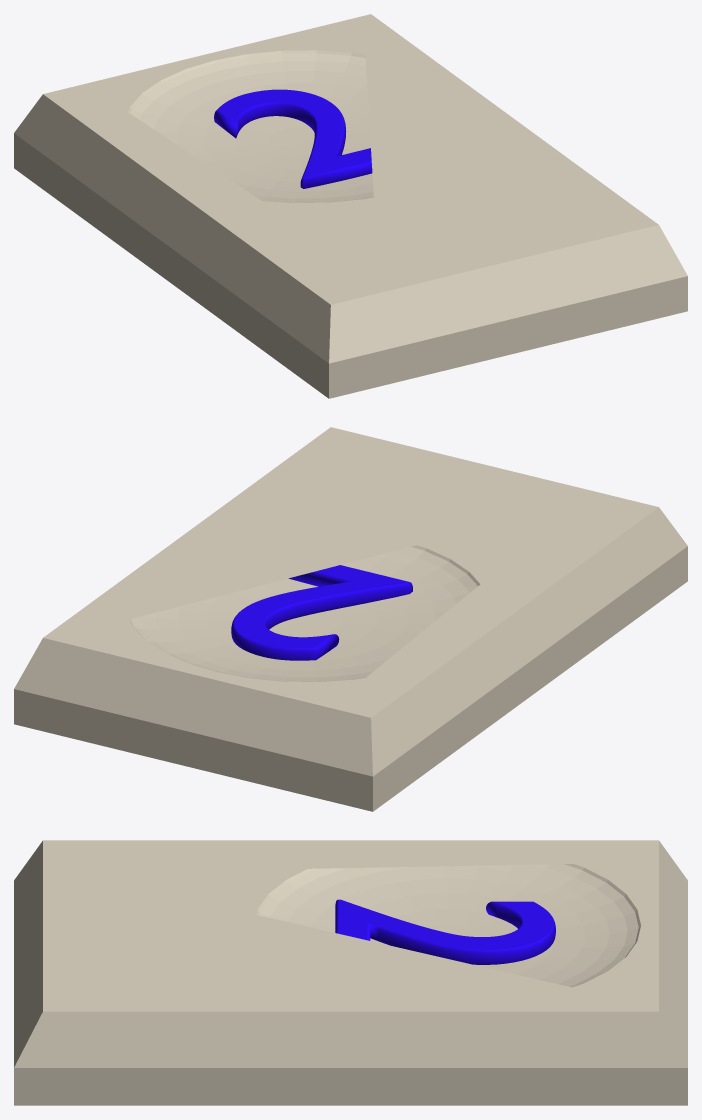
File: bl2_cube_tail.fbx
3 views of the same model, one above another, from view 1: azimuth 30°, elevation 25°; view 2: azimuth 150°, elevation 25°; view 3: azimuth 270°, elevation 25° (orthographic). The views are drawn at different scales.
Visible parts, largest first — view 1: 큐브, 숫자; view 2: 큐브, 숫자; view 3: 큐브, 숫자.
Boxes of the visible parts, x1,y1,x2,y2 form: 큐브: [14, 14, 687, 398]; 숫자: [214, 89, 372, 188]; 큐브: [14, 427, 687, 811]; 숫자: [231, 565, 412, 660]; 큐브: [14, 840, 687, 1105]; 숫자: [335, 899, 555, 964].
Bounding box in the file's own units: 500 × 107 × 760.
